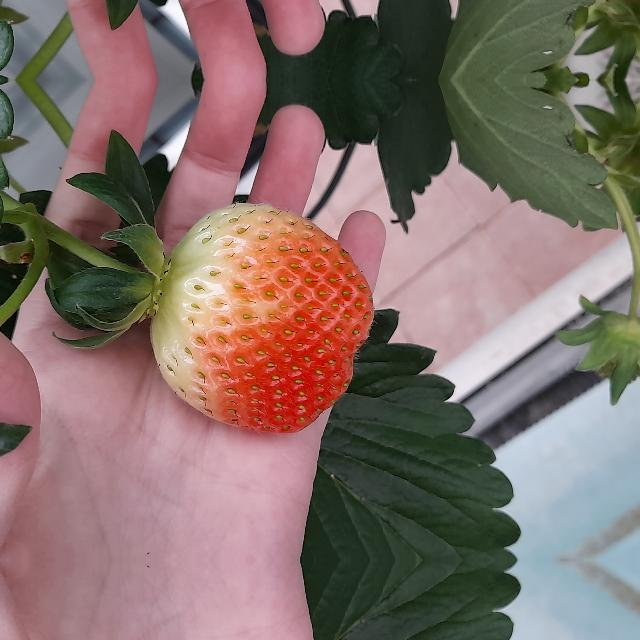Health_75: (150, 202, 374, 434)
